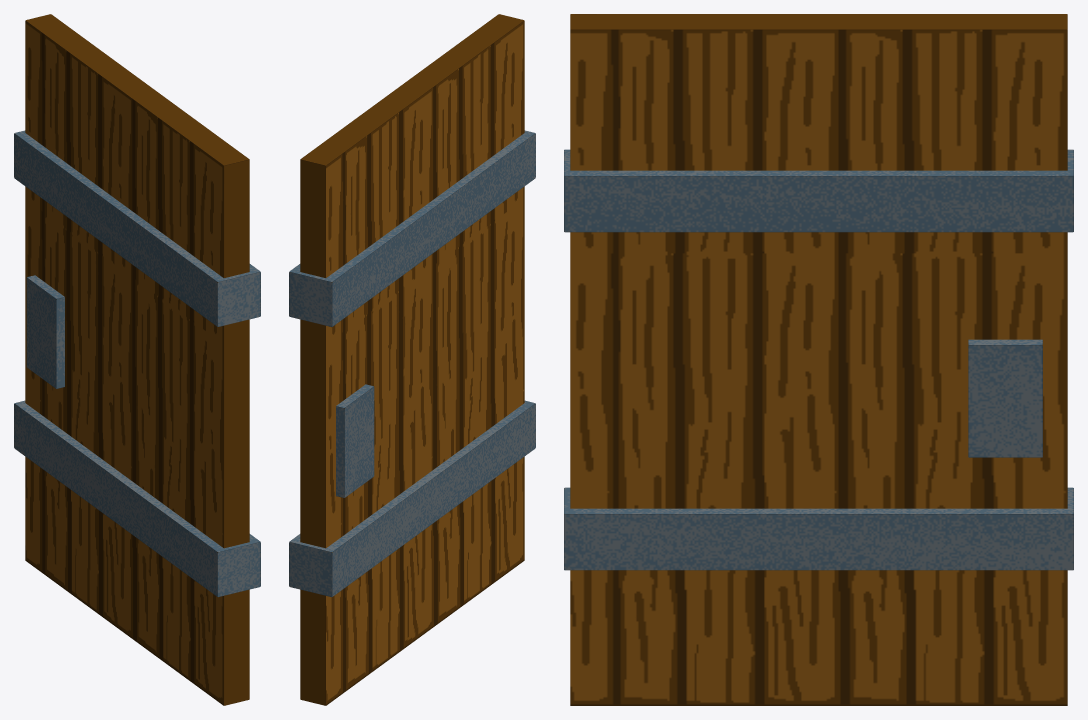
The model's file is Wood Door.fbx.
3 views of the same model, side by side, from view 1: azimuth 30°, elevation 25°; view 2: azimuth 150°, elevation 25°; view 3: azimuth 270°, elevation 25° (orthographic). The views are drawn at different scales.
Visible parts, largest first — view 1: Door; view 2: Door; view 3: Door.
Boxes of the visible parts, x1=… form: Door: x1=14, y1=14, x2=260, y2=705; Door: x1=289, y1=14, x2=535, y2=705; Door: x1=564, y1=14, x2=1073, y2=705.
Bounding box in the file's own units: 12.5 × 150 × 102.
1 material, 1 textured.
